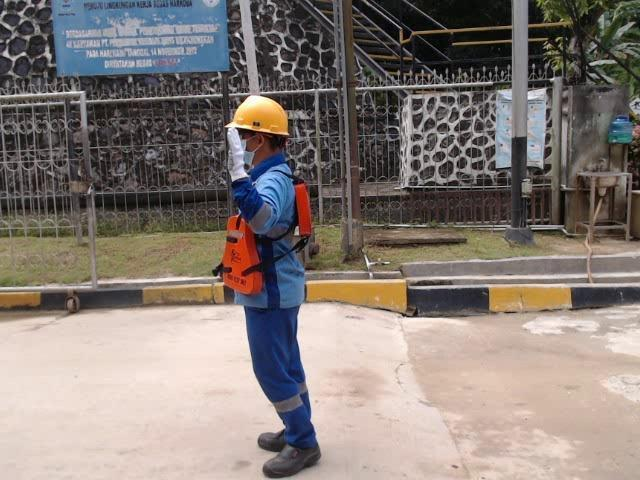vest: (214, 181, 317, 298)
